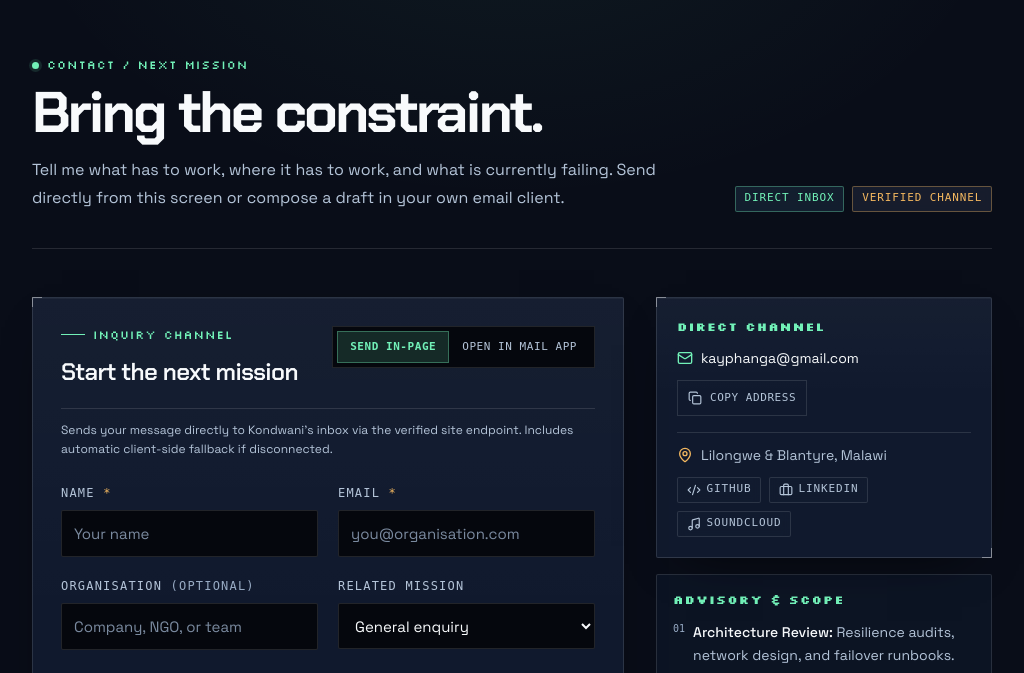
Test case: <ContactView /> › copies verified email address and shows confirmed feedback
The image size is (1024, 673).
Click the button "Copy address".
click(742, 398)  # box [677,380,807,416]
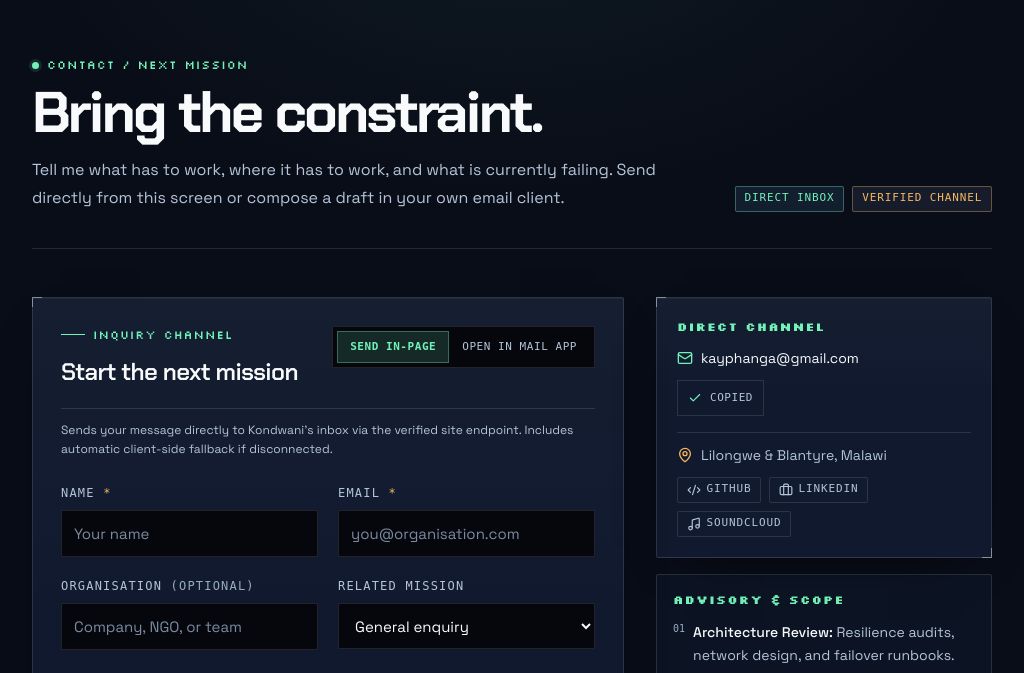
Now the button "Copied" is shown, box [677,380,764,416]
